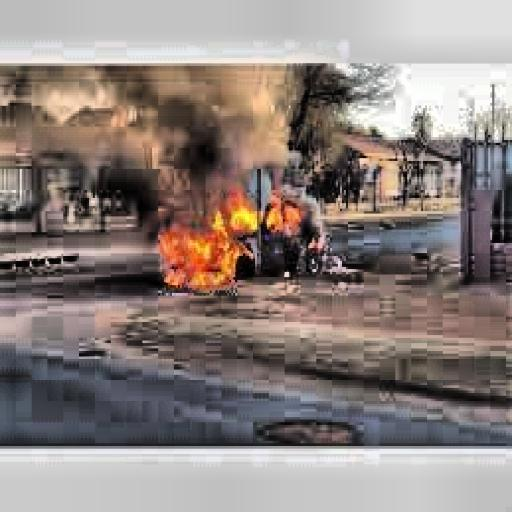fire: (152, 182, 306, 296)
